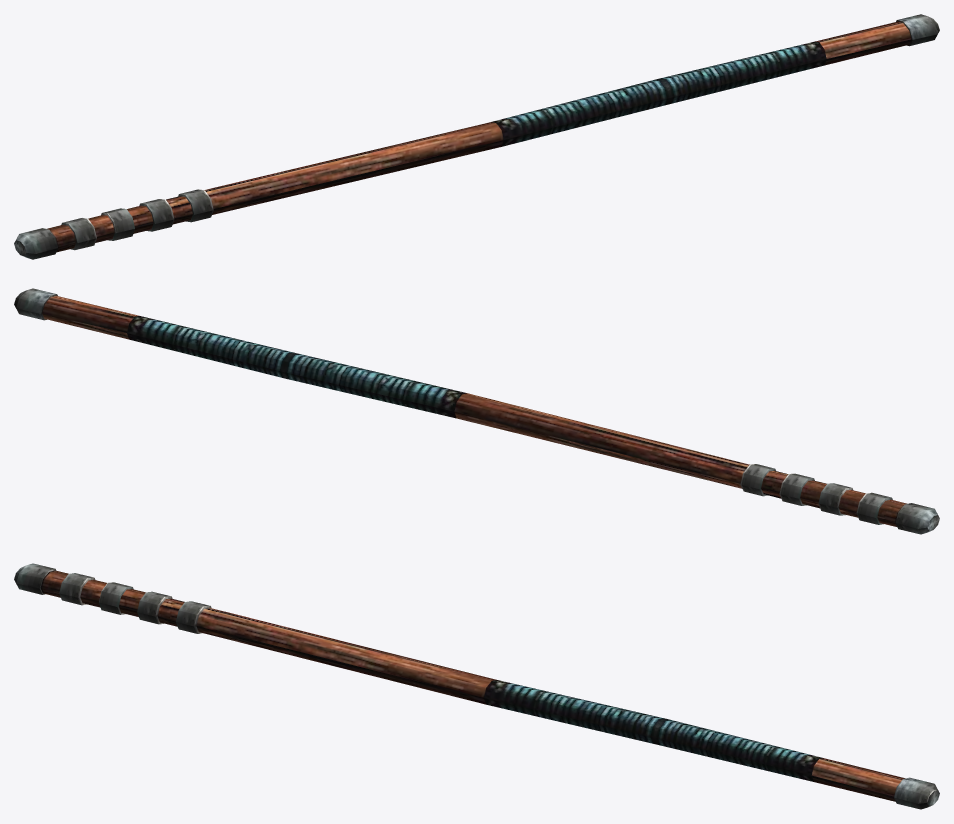
File: ITMW_2H_SPEAR_14.glb
3 renders of one model, top to bottom at view 1: azimuth 30°, elevation 25°; view 2: azimuth 150°, elevation 25°; view 3: azimuth 330°, elevation 25°, orthographic.
Parts seen in each view (by area): view 1: ITMW_2H_SPEAR_14; view 2: ITMW_2H_SPEAR_14; view 3: ITMW_2H_SPEAR_14.
Boxes of the visible parts, x1=… form: ITMW_2H_SPEAR_14: x1=14, y1=14, x2=939, y2=259; ITMW_2H_SPEAR_14: x1=14, y1=288, x2=939, y2=534; ITMW_2H_SPEAR_14: x1=14, y1=563, x2=939, y2=809.
Bounding box in the file's own units: 1.7 × 0.0478 × 0.065.
Materials: 1 (1 with a texture image).
